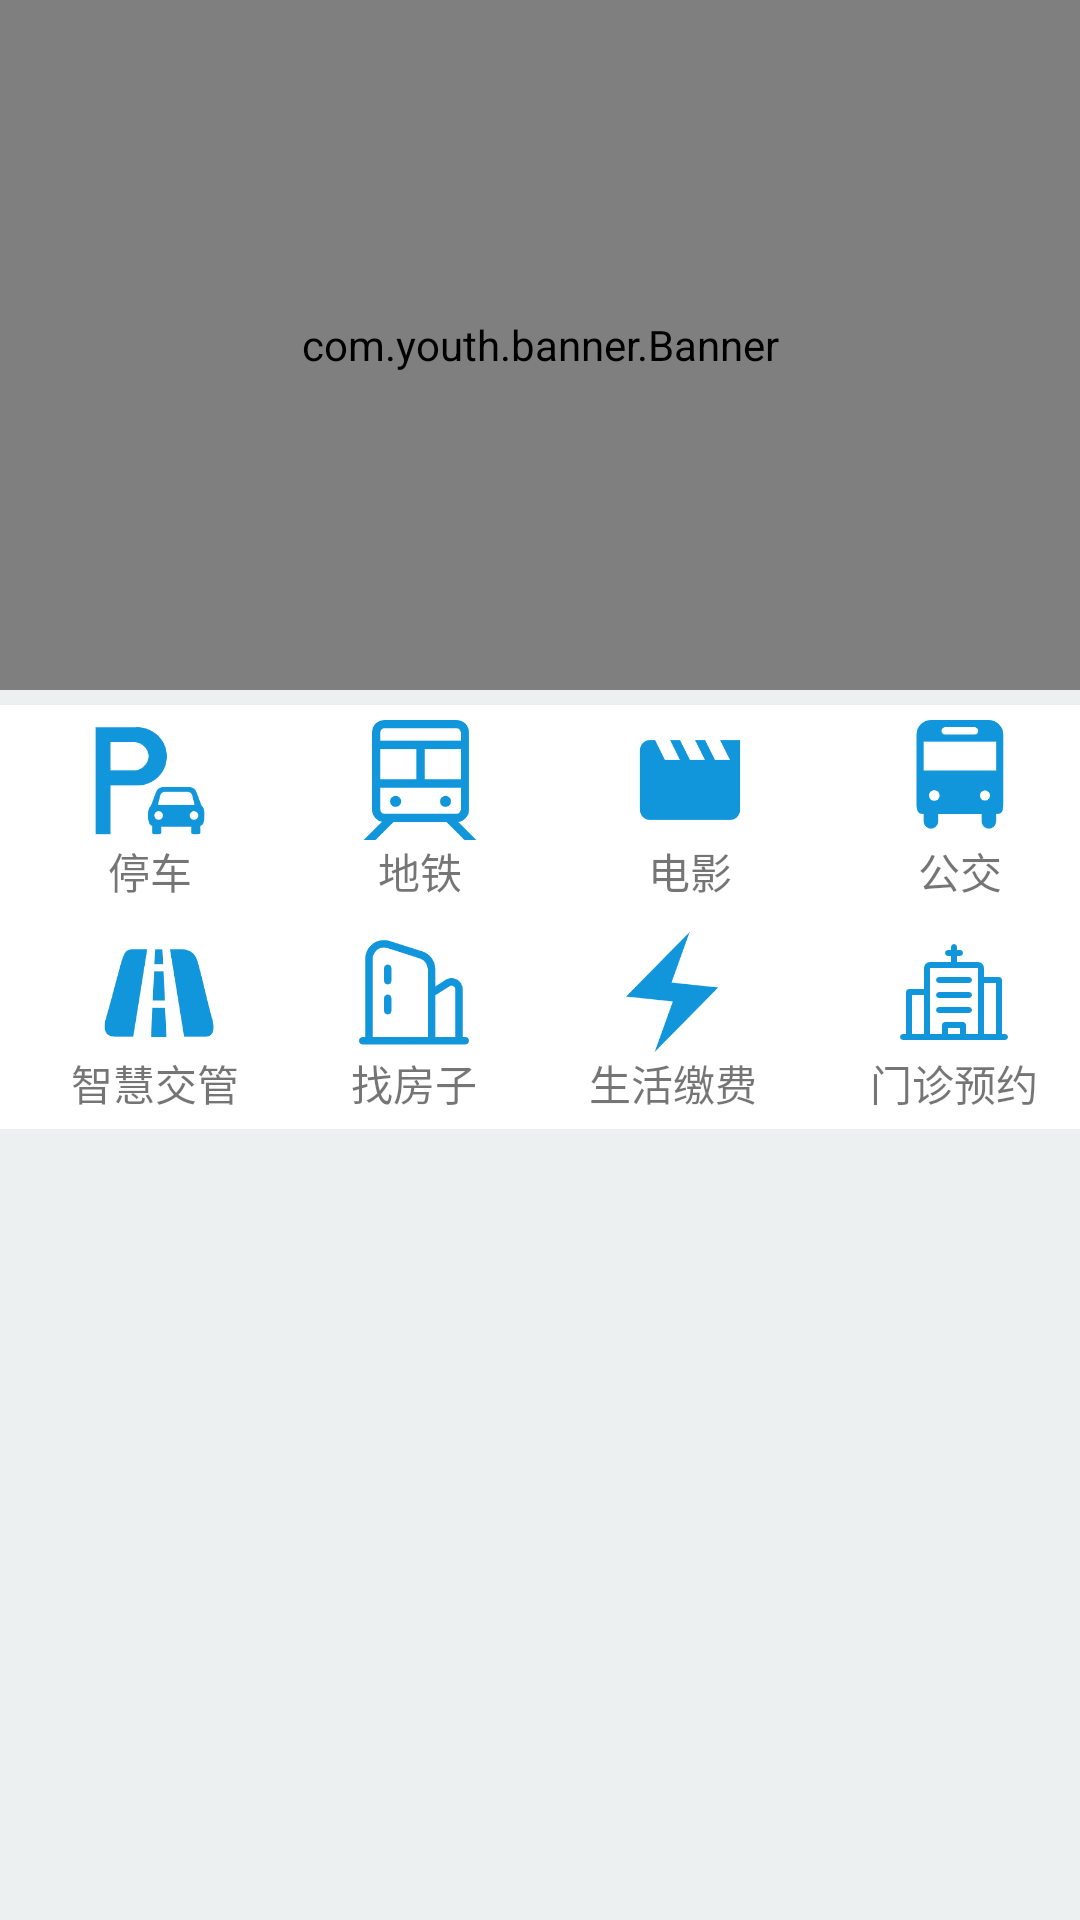

Icon click points for this 1080w x 1920h phone screenshot, format [x,y]:
hospital: [954,992]
